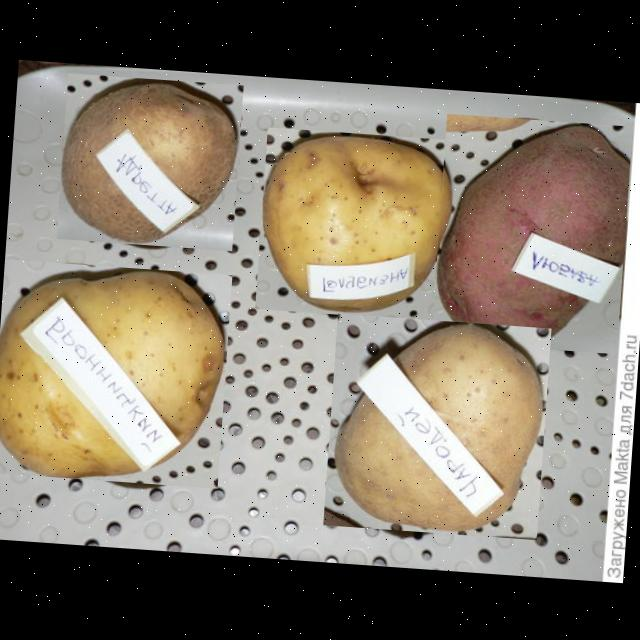Defected potato: (430, 112, 631, 352)
Diseased-fungal potato: (54, 72, 242, 250)
Potato: (0, 258, 231, 487), (322, 312, 550, 538), (254, 126, 454, 320)
